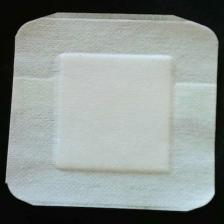Dressing: (6, 11, 222, 217)
